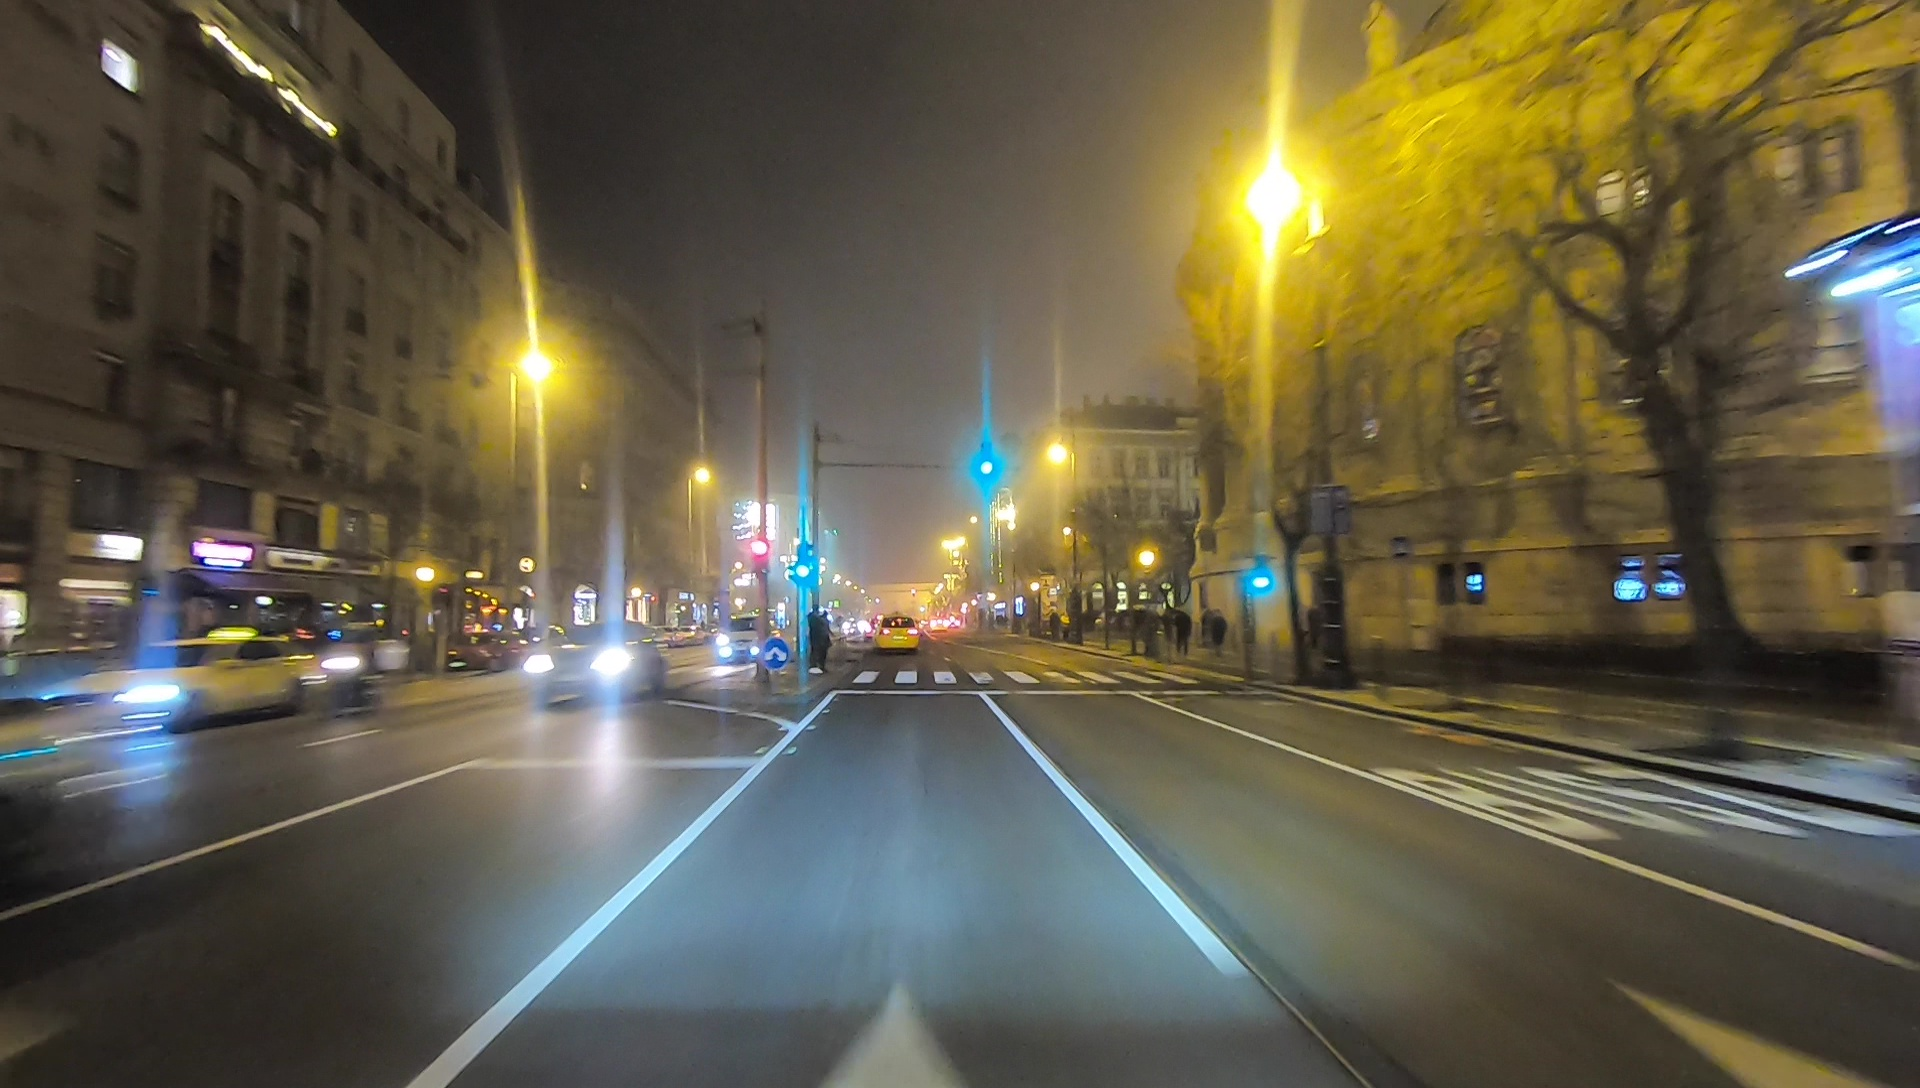person: (810, 610, 832, 667), (1128, 599, 1149, 658), (1178, 611, 1193, 658), (1210, 608, 1225, 650)
